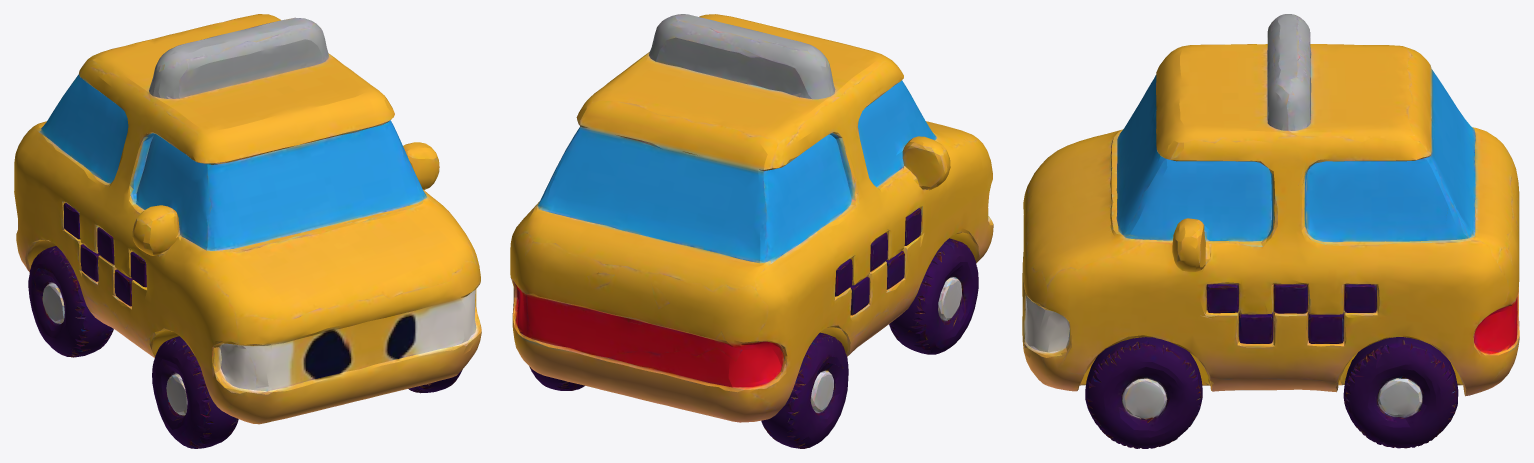
Rendered from taxi.glb.
3 renders of one model, left to right at view 1: azimuth 30°, elevation 25°; view 2: azimuth 150°, elevation 25°; view 3: azimuth 270°, elevation 25°, orthographic. The views are drawn at different scales.
Visible parts, largest first — view 1: Mesh; view 2: Mesh; view 3: Mesh.
Boxes of the visible parts, x1=… form: Mesh: x1=14, y1=14, x2=481, y2=448; Mesh: x1=510, y1=14, x2=993, y2=448; Mesh: x1=1022, y1=14, x2=1519, y2=448.
Size of the model in its own units: 0.7254 by 0.7556 by 1.
1 material, 1 textured.
